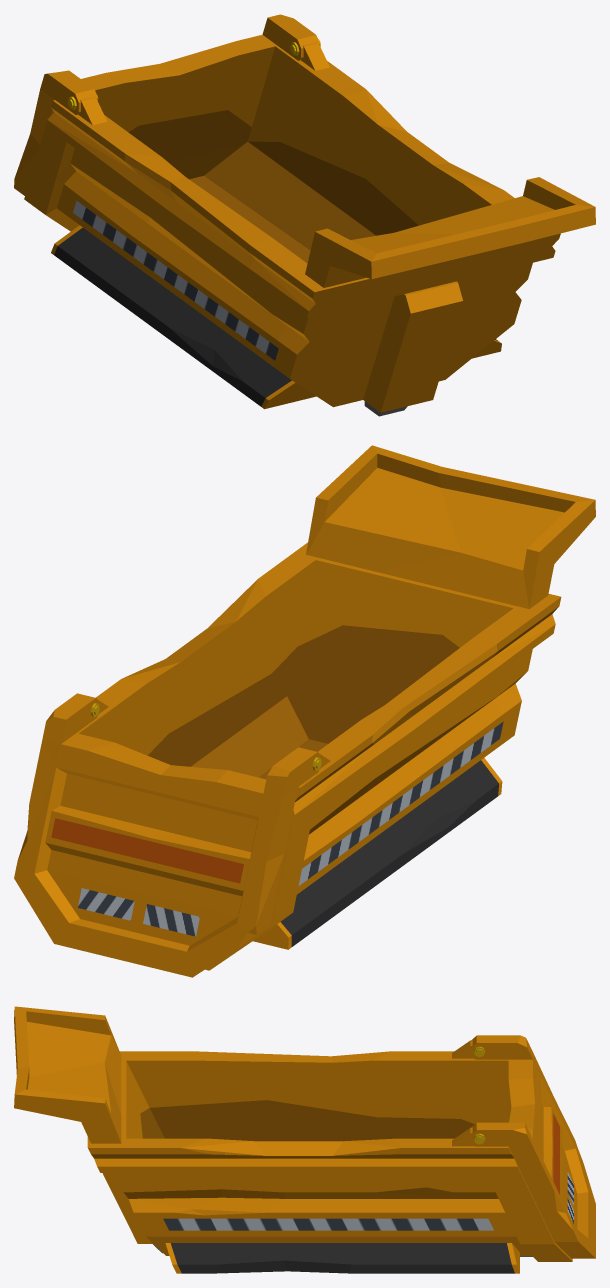
File: SM_Veh_Truck_01_DumpTray_02.fbx
3 renders of one model, top to bottom at view 1: azimuth 30°, elevation 25°; view 2: azimuth 150°, elevation 25°; view 3: azimuth 270°, elevation 25°, orthographic. The views are drawn at different scales.
Parts seen in each view (by area): view 1: SM_Veh_Truck_01_DumpTray_02, SM_Veh_Truck_01_DumpTray_02_Door; view 2: SM_Veh_Truck_01_DumpTray_02, SM_Veh_Truck_01_DumpTray_02_Door; view 3: SM_Veh_Truck_01_DumpTray_02, SM_Veh_Truck_01_DumpTray_02_Door.
Boxes of the visible parts, x1,y1,x2,y2 form: SM_Veh_Truck_01_DumpTray_02: [24, 38, 595, 416]; SM_Veh_Truck_01_DumpTray_02_Door: [14, 14, 319, 195]; SM_Veh_Truck_01_DumpTray_02: [77, 445, 595, 970]; SM_Veh_Truck_01_DumpTray_02_Door: [14, 693, 321, 977]; SM_Veh_Truck_01_DumpTray_02: [14, 1006, 572, 1273]; SM_Veh_Truck_01_DumpTray_02_Door: [471, 1035, 595, 1258].
Size of the model in its own units: 291 by 281 by 734.
Materials: 1 (1 with a texture image).
